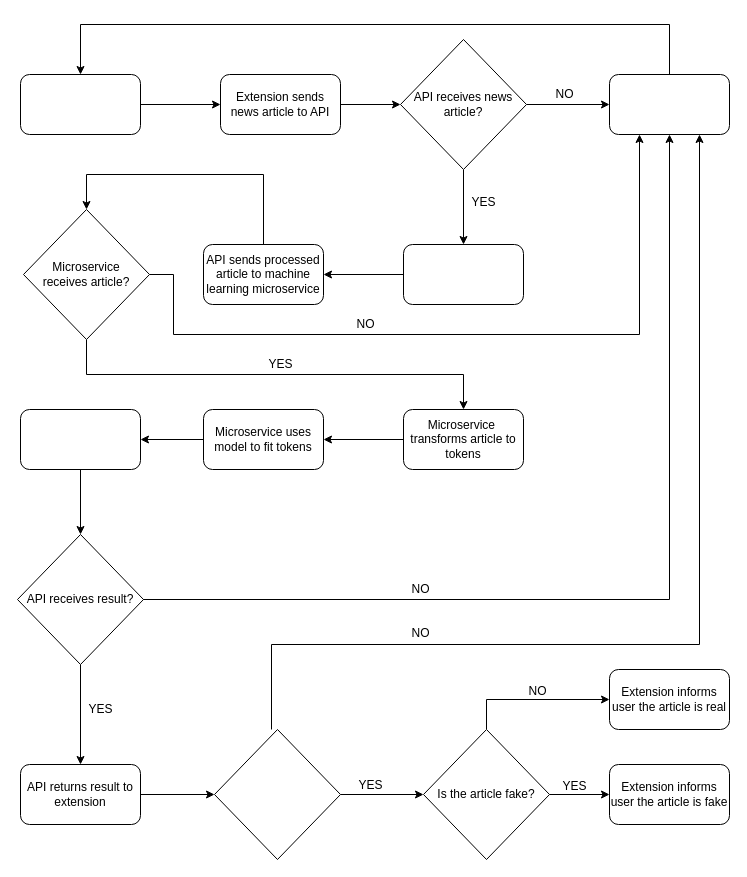
The diagram is 747 pixels wide and 877 high, and some of its shapes have lost their labels. The shapes that lost their labels are listed below. From the top down, each one's centre as x and y in pixels, then its label:
At point (80, 104): "User validates news article via extension".
At point (669, 104): "Extension asks user to try again".
At point (463, 274): "API processes news article".
At point (80, 439): "Microservice returns result to API".
At point (277, 794): "Extension receives result?".
